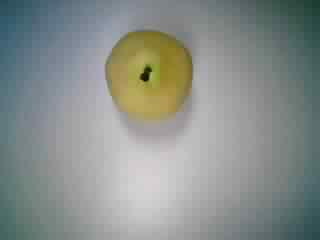pear: (94, 19, 198, 127)
